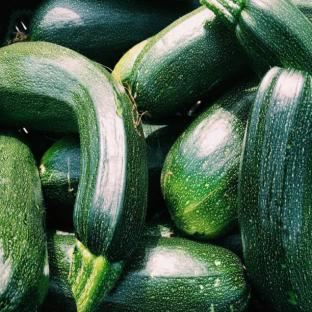Zucchini: (0, 43, 147, 311), (239, 68, 311, 311), (162, 78, 257, 239), (131, 7, 246, 118), (30, 0, 199, 68), (99, 236, 249, 311), (0, 132, 48, 311), (144, 121, 187, 214), (112, 39, 150, 89), (143, 217, 183, 237)
